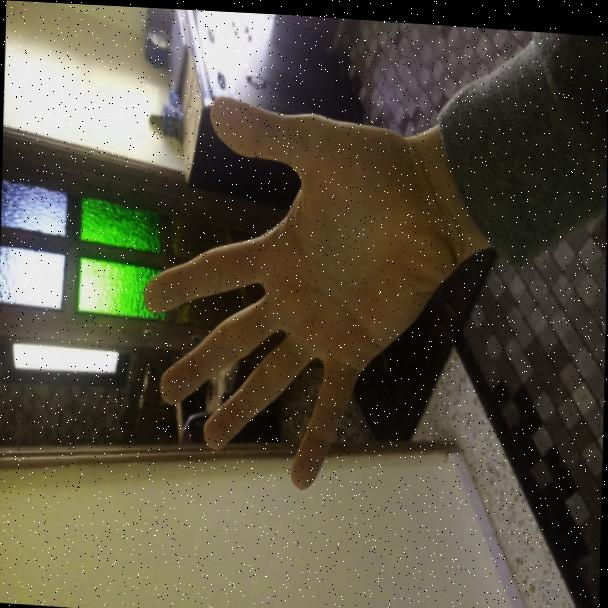five: (140, 95, 429, 498)
